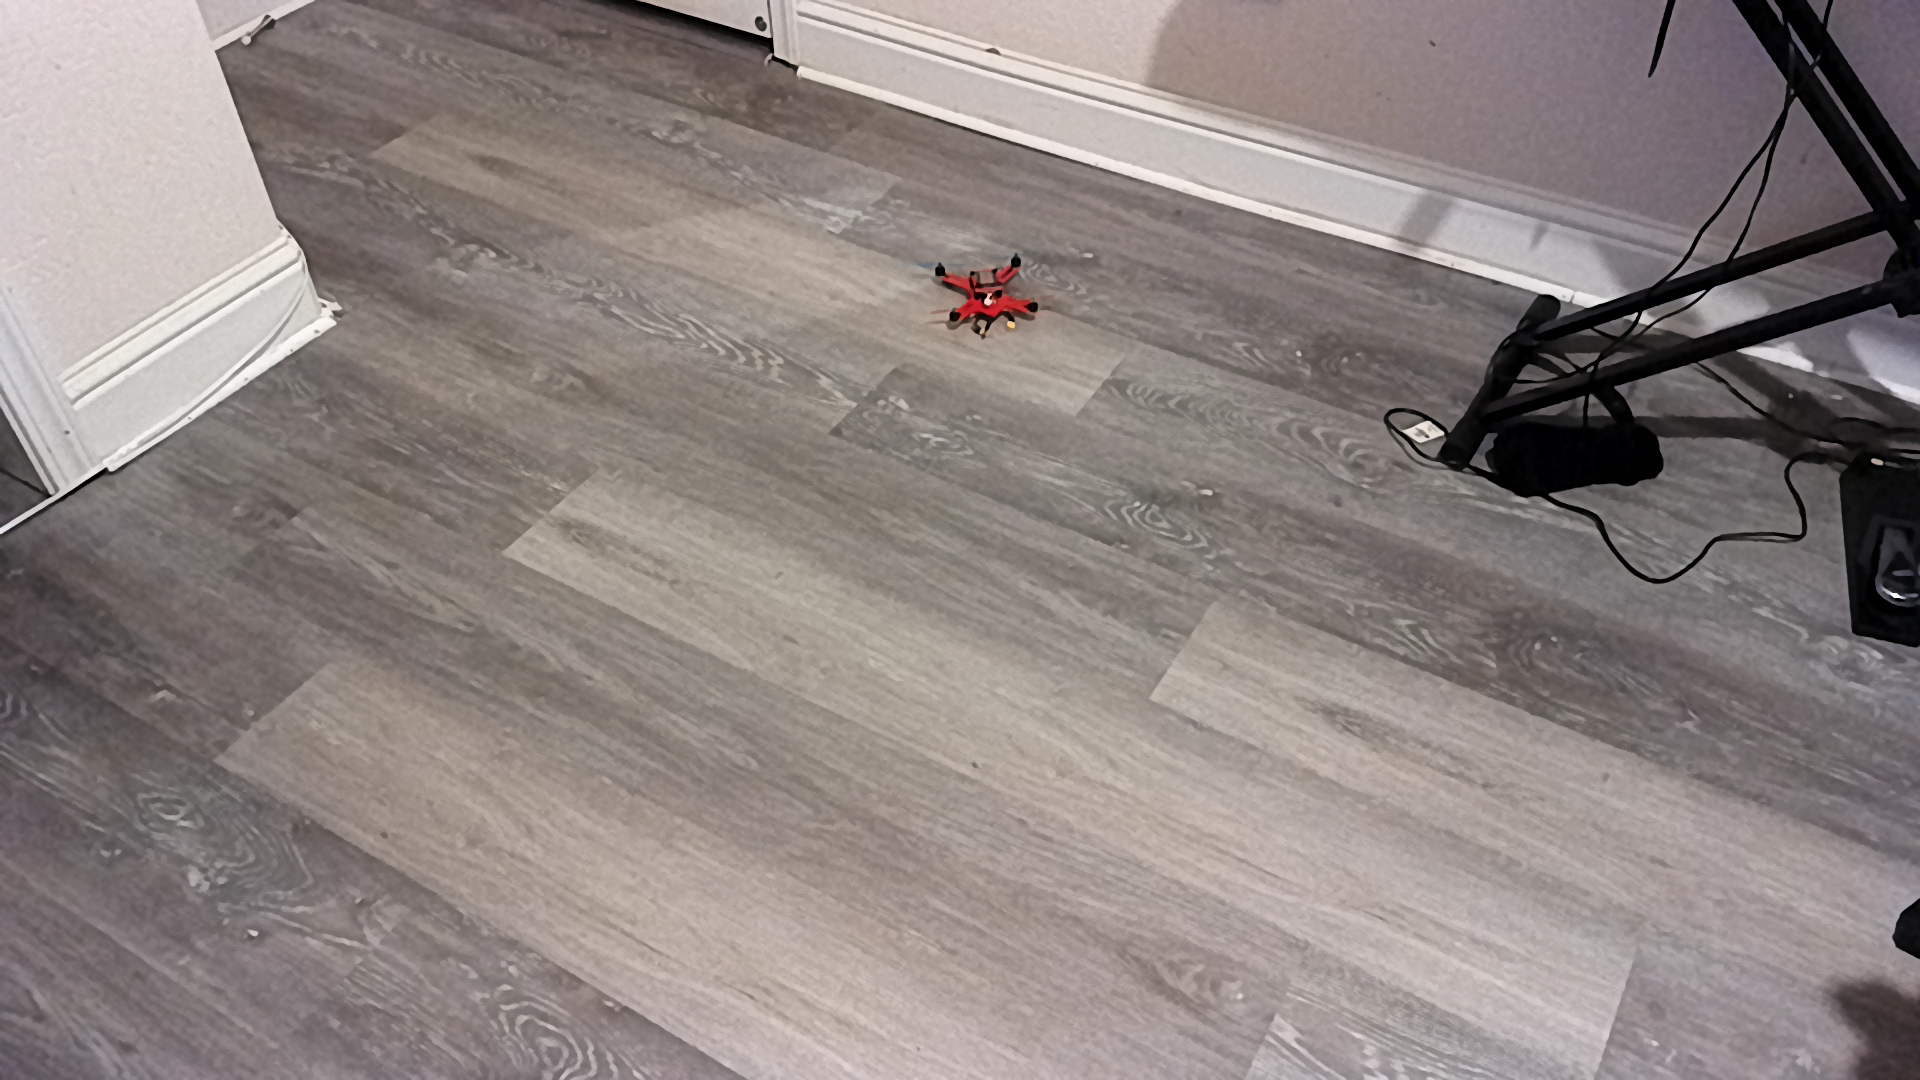drone: (918, 243, 1069, 352)
